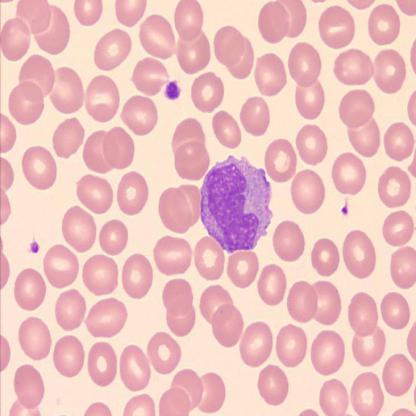Monocyte: (198, 153, 274, 254)
